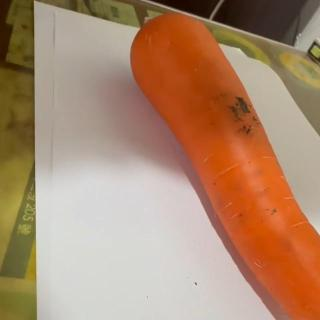carrot: (130, 11, 320, 320)
